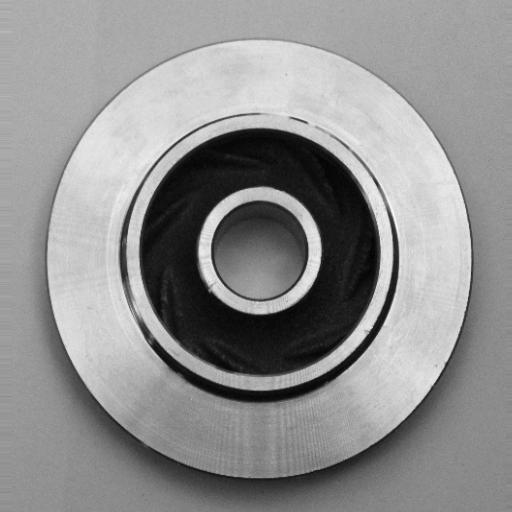scratch: (117, 225, 154, 343), (194, 262, 234, 304)
unpolished_casting: (45, 36, 472, 485)
